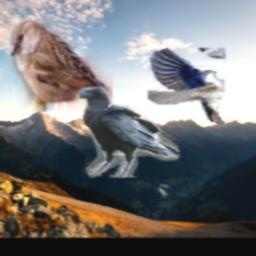Crow: (76, 86, 179, 178)
Sparrow: (9, 18, 114, 112)
Swallow: (149, 49, 227, 125)
